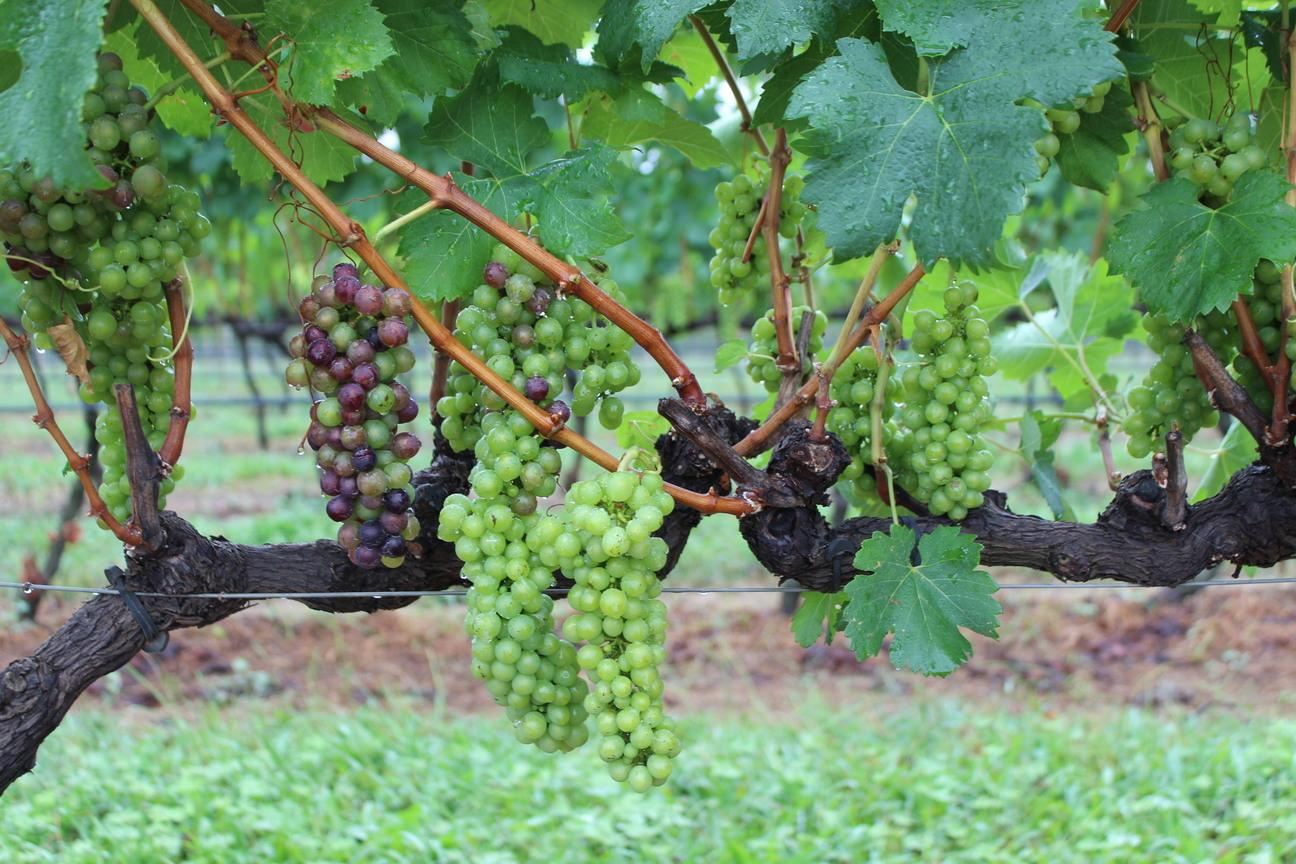leaf: (789, 0, 1121, 264), (1107, 171, 1295, 321), (845, 525, 1001, 675), (0, 0, 103, 187), (263, 0, 392, 102), (423, 75, 548, 178), (581, 90, 730, 167), (529, 144, 629, 256), (238, 94, 354, 183), (374, 0, 477, 94), (397, 210, 494, 301), (1054, 86, 1132, 190), (727, 0, 860, 59), (597, 0, 704, 71), (485, 0, 602, 47), (1021, 409, 1066, 517), (791, 591, 845, 646), (454, 175, 521, 218), (225, 125, 273, 183), (716, 337, 747, 372), (398, 190, 425, 210), (343, 112, 366, 128), (923, 5, 924, 6)
